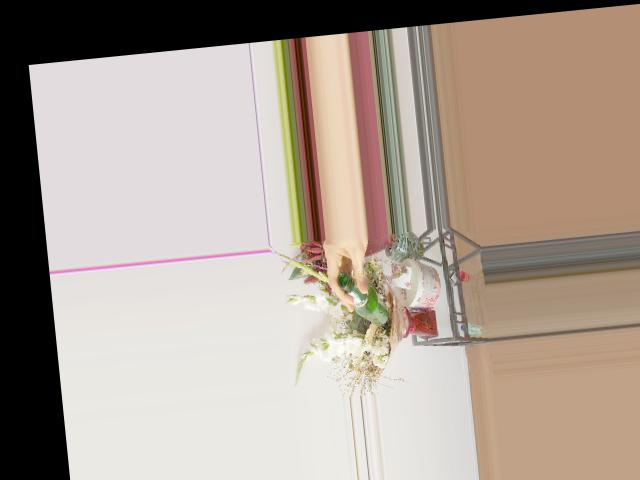beer: (336, 268, 389, 328)
